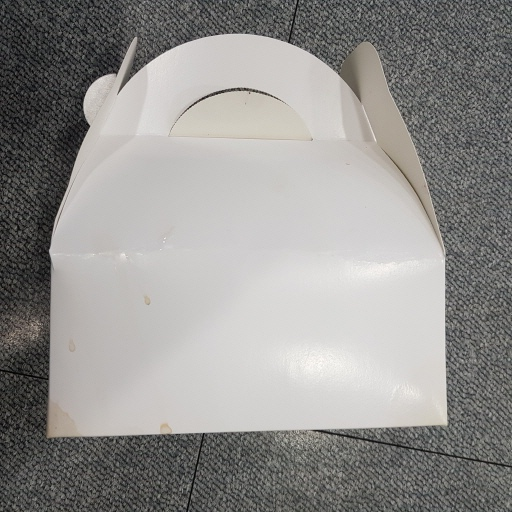Paper_0: (34, 33, 472, 447)
